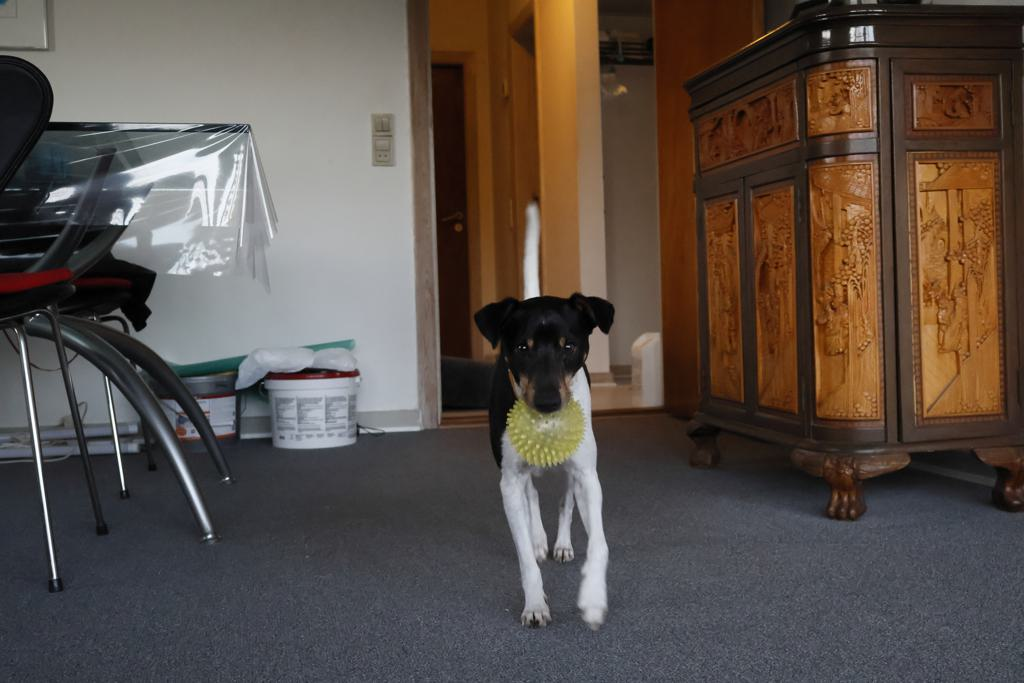Dog: (446, 184, 637, 654)
